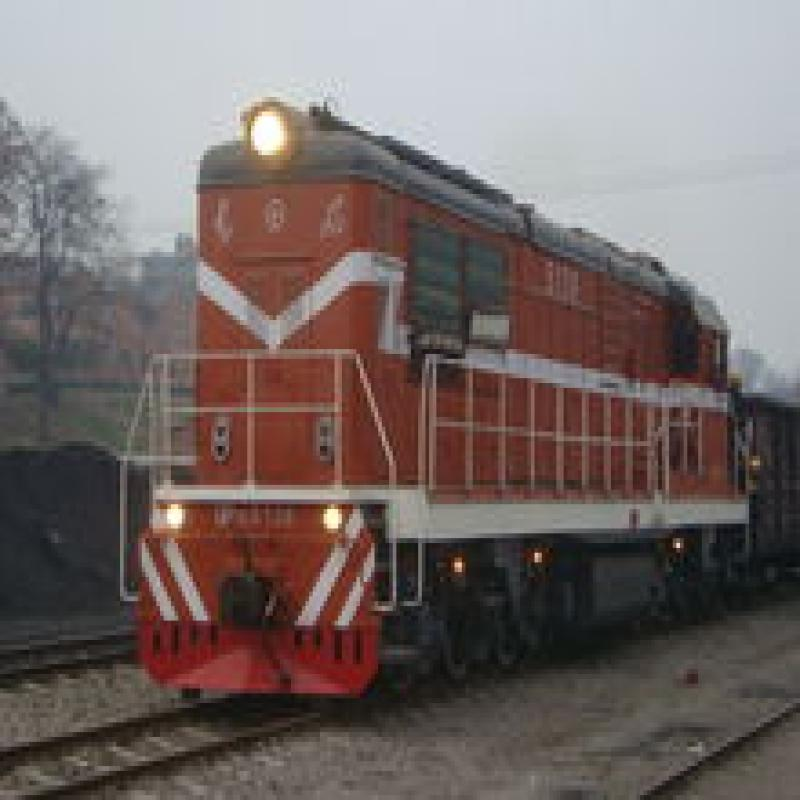train: (114, 74, 754, 699)
